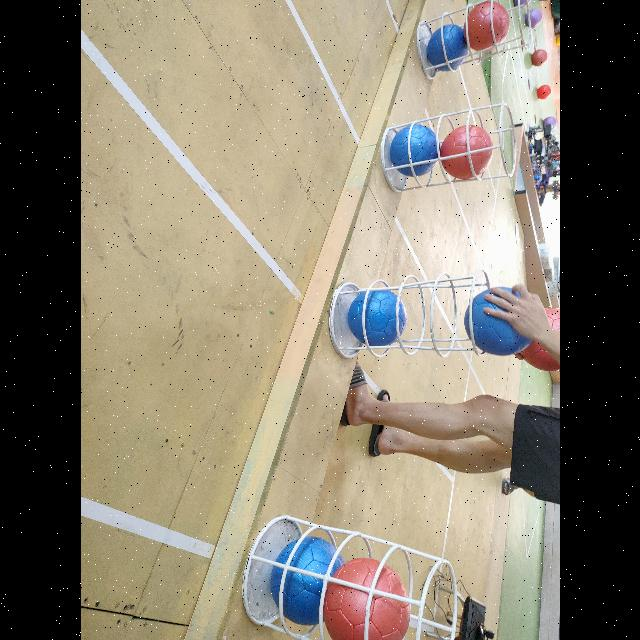B: (270, 536, 345, 626), (348, 289, 407, 347), (388, 122, 439, 178), (428, 24, 467, 72)
R: (326, 558, 409, 640), (443, 127, 493, 179), (465, 1, 509, 51)
